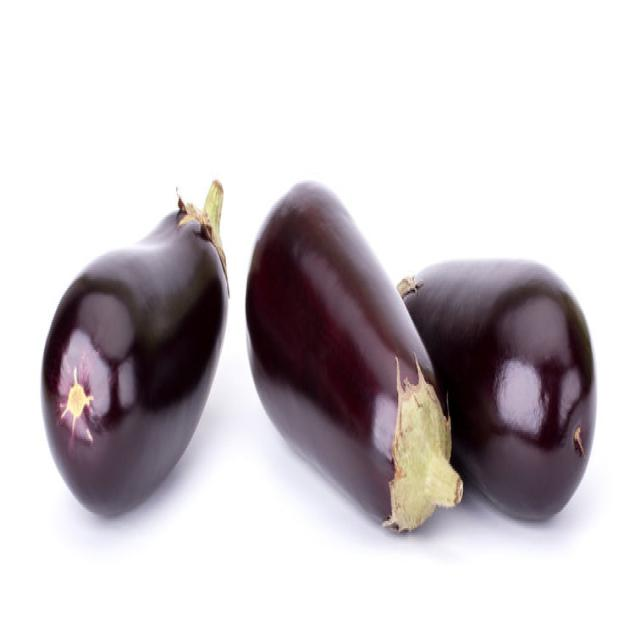Eggplant: (244, 176, 463, 533), (39, 176, 229, 517), (395, 254, 597, 523)
